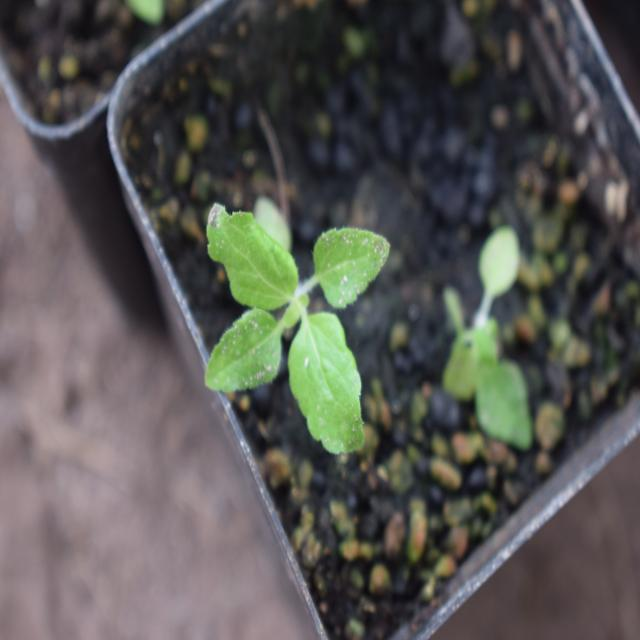billygoat_weed: (190, 168, 392, 466)
